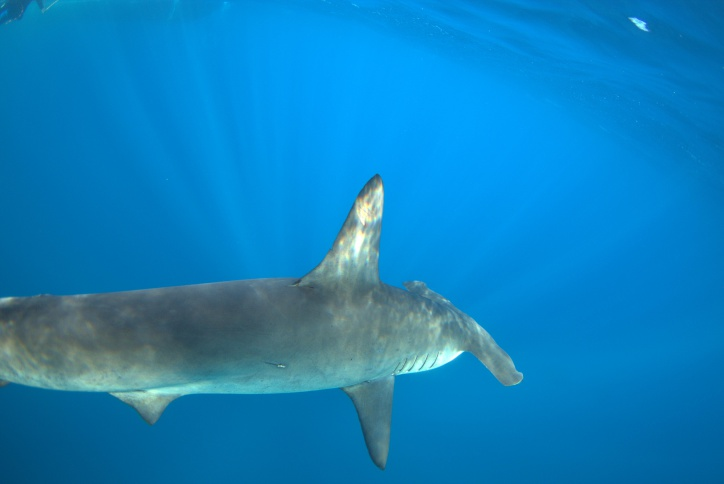Hammer: (1, 160, 565, 481)
